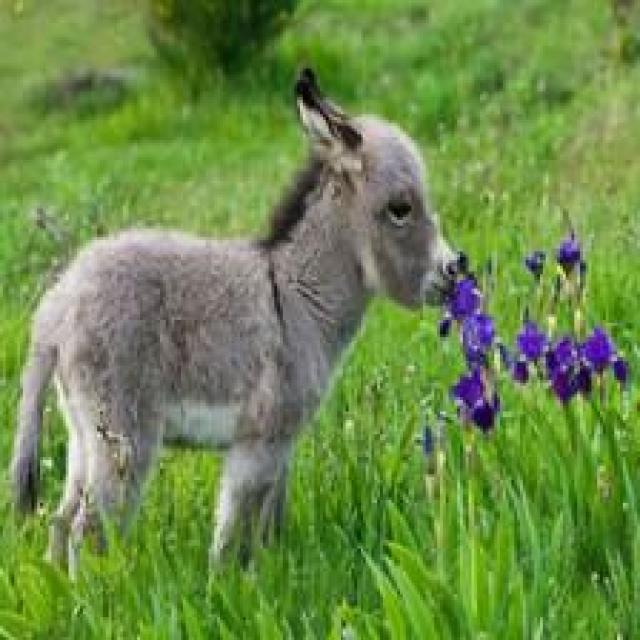Donkey: (6, 60, 466, 586)
